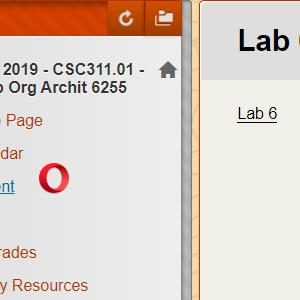opera: (39, 162, 69, 194)
